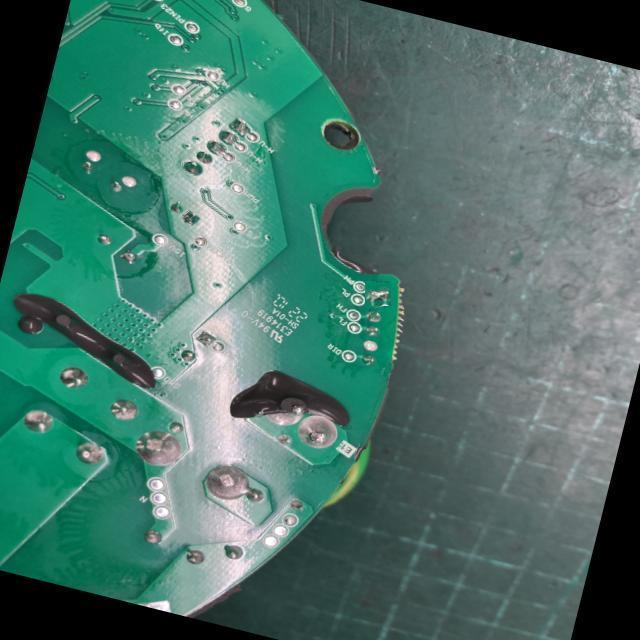damged: (365, 282, 390, 307)
